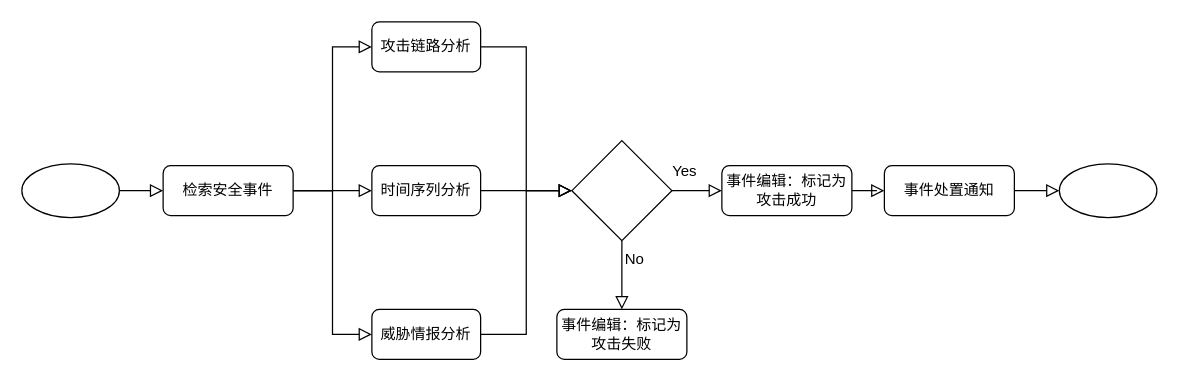
This 1179x381 diagram has some shape labels left out. The shapes that lost their labels are listed below. From the top down, each one's centre as x and y in pixels, then its label:
At point 70,190: "开始".
At point 621,190: "攻击成功？".
At point 1107,190: "结束".
